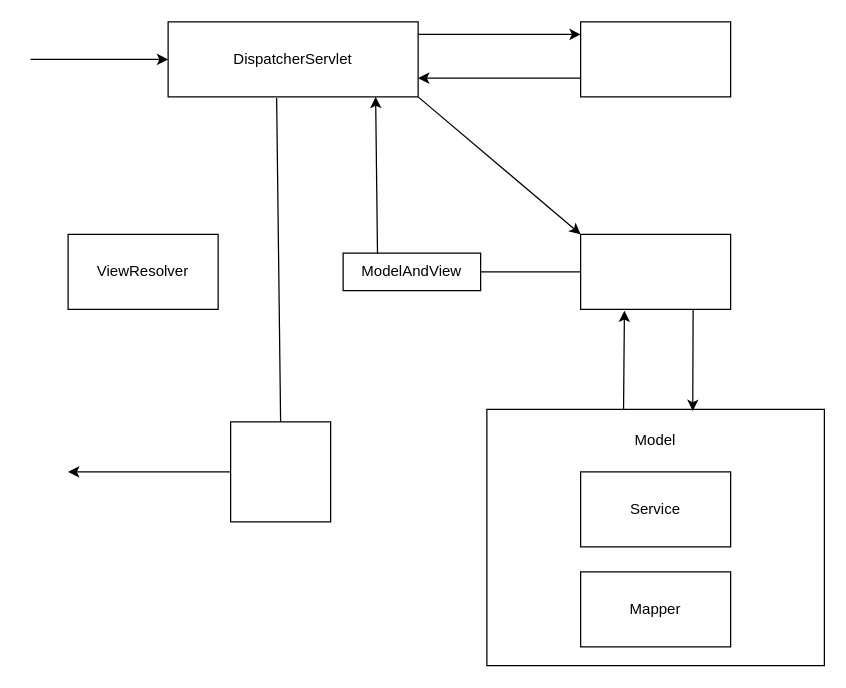
Image size: 846x688. Some labels were removed from this diagram. The shapes that lost their labels are listed below. From the top down, each one's box as (x1, y1, x2, y2) in pixels, then its label:
(579, 21, 731, 97): HandlerMapping
(579, 233, 731, 309): Controller
(229, 421, 331, 522): 视图组件
